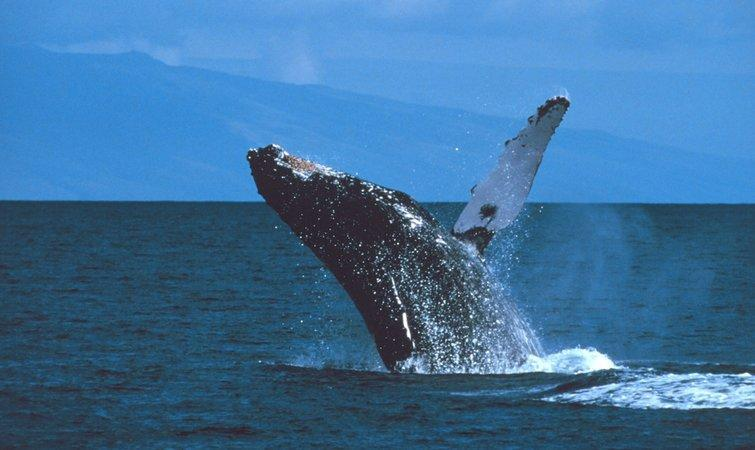fish: (241, 93, 625, 380)
